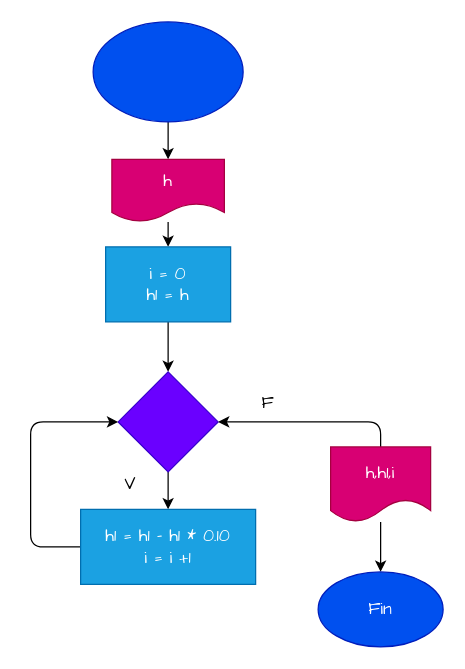
Some shapes in this 465 by 669 pixel diagram are drawn without their labels. The box of each missing label's shape, as (x1, y1, x2, y2) in pixels:
h1 >= h / 5: (117, 371, 218, 472)
Inicio: (92, 21, 243, 122)
